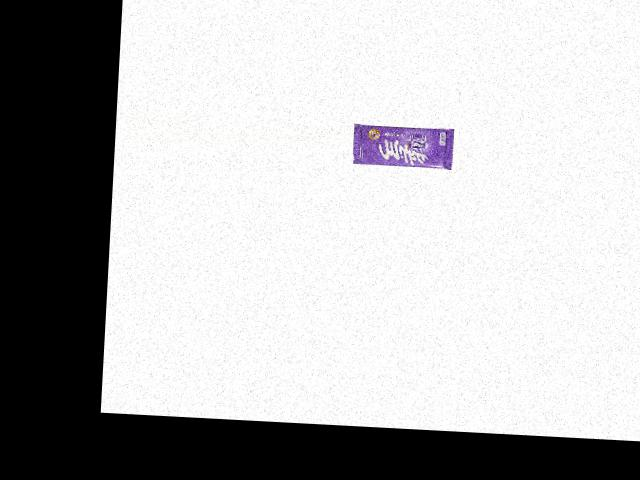chocolate: (351, 118, 460, 172)
